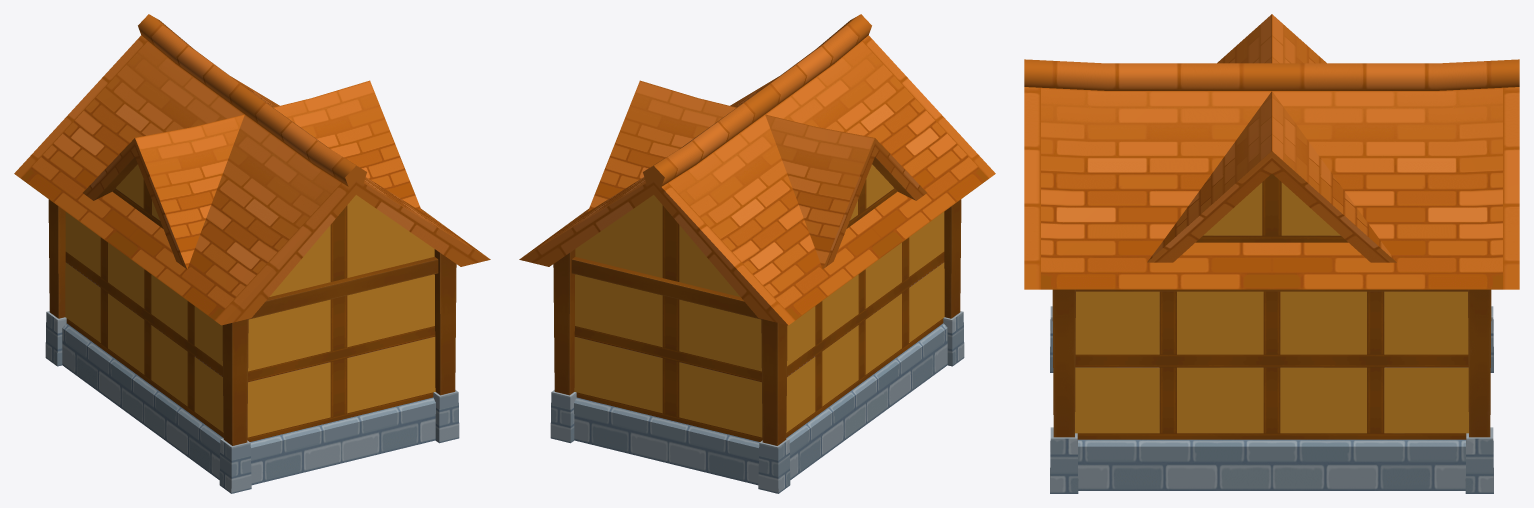
File: BLD0310009.fbx
3 views of the same model, side by side, from view 1: azimuth 30°, elevation 25°; view 2: azimuth 150°, elevation 25°; view 3: azimuth 270°, elevation 25° (orthographic). The views are drawn at different scales.
Parts seen in each view (by area): view 1: smBLD0310009; view 2: smBLD0310009; view 3: smBLD0310009.
Part boxes in pixels (left/top/right/bottom): smBLD0310009: left=14, top=14, right=490, bottom=493; smBLD0310009: left=519, top=14, right=995, bottom=493; smBLD0310009: left=1024, top=14, right=1519, bottom=493.
Bounding box in the file's own units: 127 × 139 × 169.
1 material, 1 textured.
